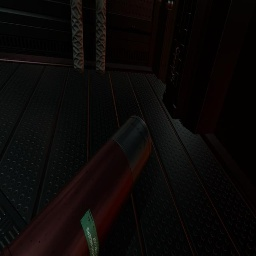NitrogenTank ,: (0, 115, 151, 256)
